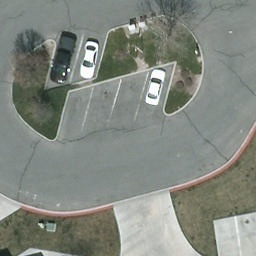car: (139, 69, 170, 108), (79, 40, 99, 81)
pickup: (47, 33, 76, 84)
